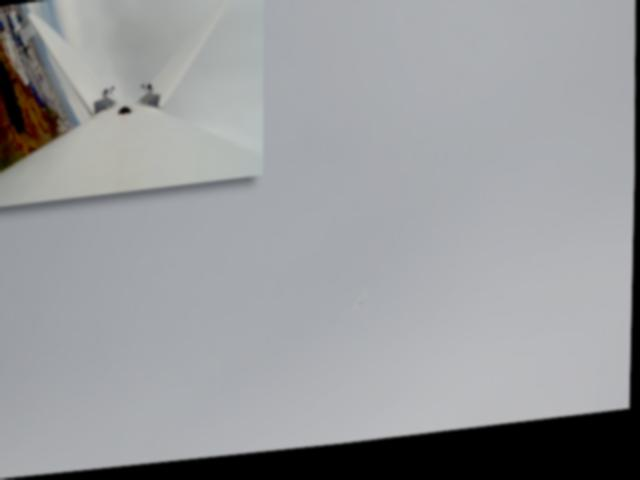plane: (355, 300, 370, 317)
